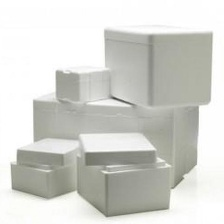foam_box: (27, 76, 203, 192), (100, 18, 218, 111), (71, 155, 176, 220), (77, 127, 159, 169), (7, 154, 77, 201), (52, 61, 114, 106), (13, 135, 83, 169)
